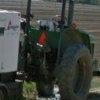Tractor: (22, 6, 93, 100)
